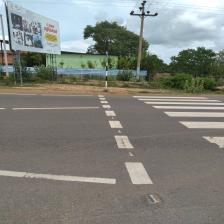crossing: (1, 92, 223, 186), (0, 169, 117, 185), (124, 161, 153, 185), (178, 120, 224, 129), (114, 135, 134, 149)
